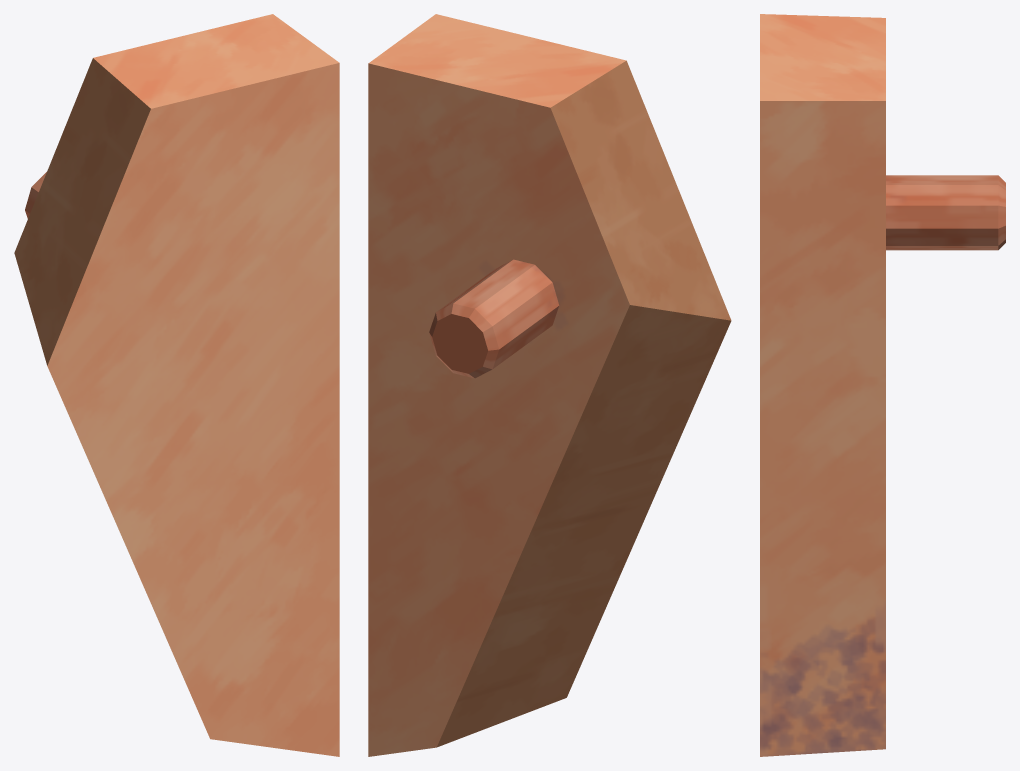
Rendered from wall_door_s08.fbx.
The picture shows the model from 3 angles, left to right: view 1: azimuth 30°, elevation 25°; view 2: azimuth 150°, elevation 25°; view 3: azimuth 270°, elevation 25°; orthographic projection. The views are drawn at different scales.
Parts seen in each view (by area): view 1: wall_door_s08; view 2: wall_door_s08; view 3: wall_door_s08.
Part boxes in pixels (bbox=[...]): wall_door_s08: bbox=[14, 14, 339, 756]; wall_door_s08: bbox=[368, 14, 731, 756]; wall_door_s08: bbox=[760, 14, 1005, 756].
Size of the model in its own units: 2.53 by 5.74 by 1.95.
